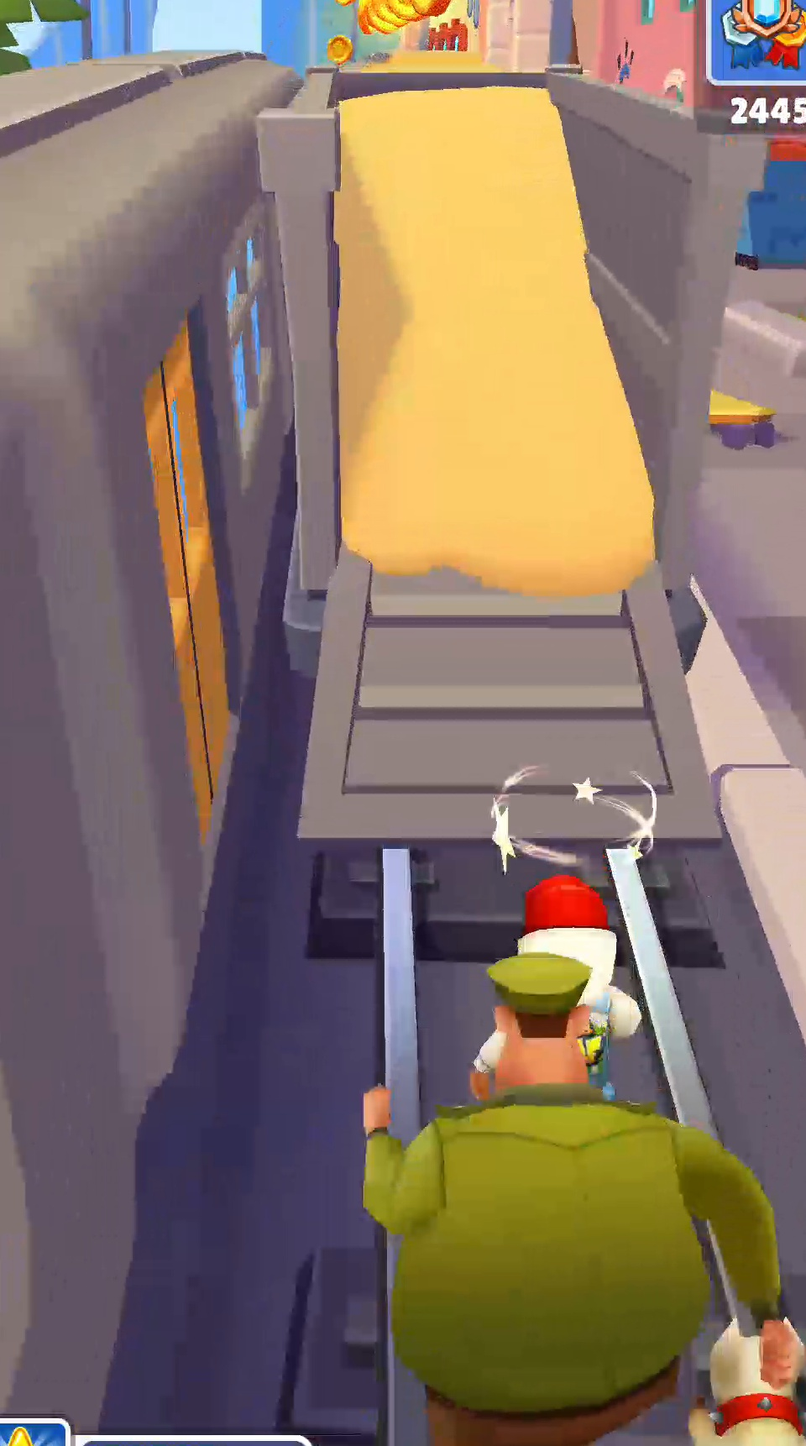climber: (302, 92, 670, 846)
police: (364, 955, 798, 1445)
train: (0, 52, 301, 1418)
